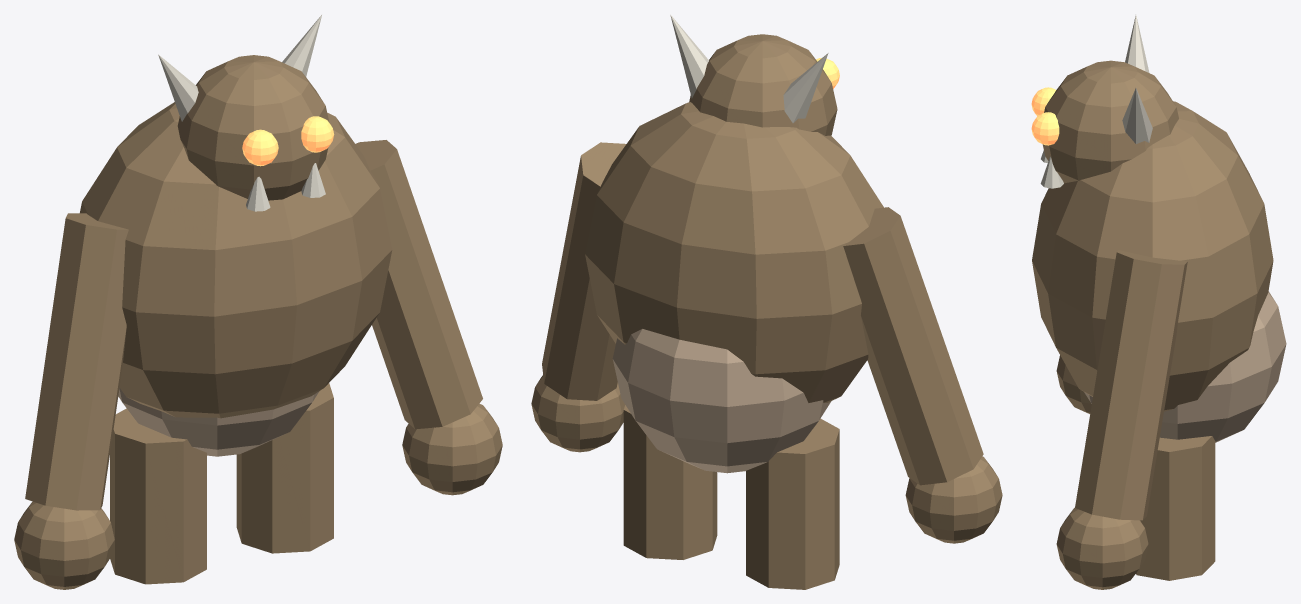
File: creature_brute_horned.glb
The picture shows the model from 3 angles, left to right: view 1: azimuth 30°, elevation 25°; view 2: azimuth 150°, elevation 25°; view 3: azimuth 270°, elevation 25°; orthographic projection. The views are drawn at different scales.
Parts seen in each view (by area): view 1: creature_brute_horned; view 2: creature_brute_horned; view 3: creature_brute_horned.
Part boxes in pixels (x1,y1,x2,y2): creature_brute_horned: [14, 15, 502, 589]; creature_brute_horned: [531, 14, 1002, 589]; creature_brute_horned: [1031, 15, 1286, 589].
Size of the model in its own units: 0.9421 by 1 by 0.4789.
